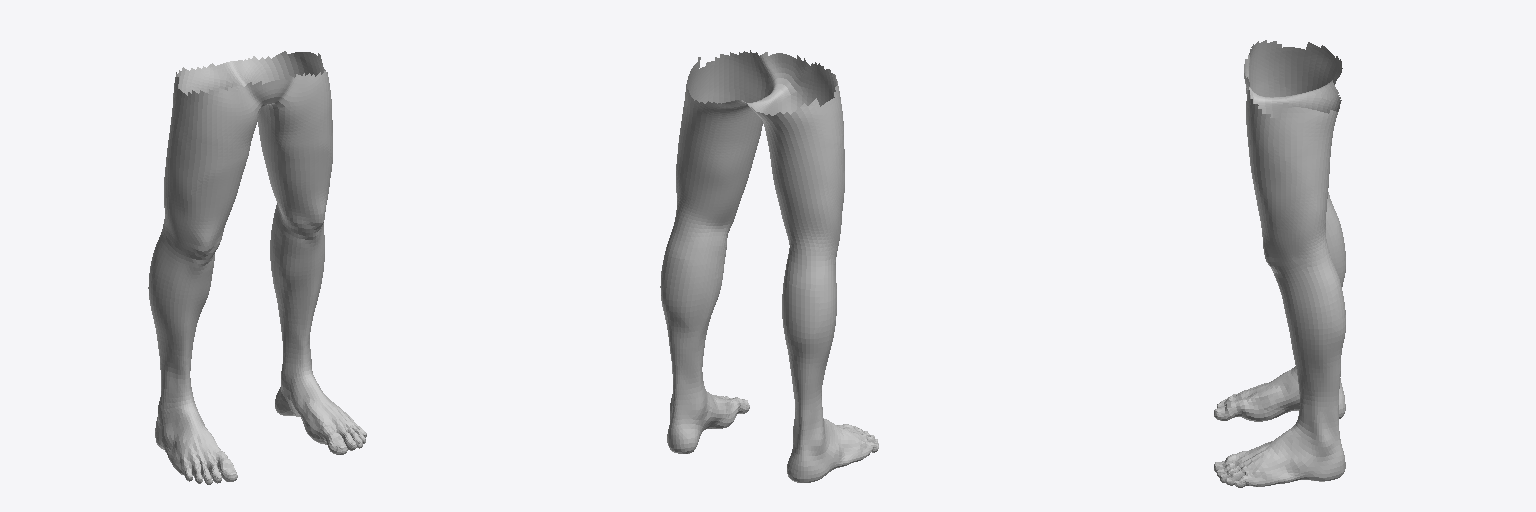
The model's file is humanleg.obj.
3 renders of one model, left to right at view 1: azimuth 30°, elevation 25°; view 2: azimuth 150°, elevation 25°; view 3: azimuth 270°, elevation 25°, orthographic.
Visible parts, largest first — view 1: Group1; view 2: Group1; view 3: Group1.
Part boxes in pixels (x1,y1,x2,y2): Group1: (148, 51, 366, 484); Group1: (660, 50, 878, 482); Group1: (1214, 40, 1345, 487).
Size of the model in its own units: 5.28 by 10.76 by 3.38.